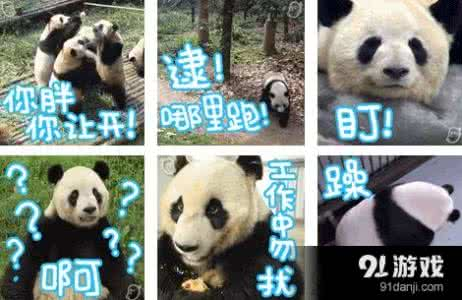panda: (158, 153, 303, 300), (7, 158, 143, 300), (318, 1, 460, 103), (332, 180, 461, 252), (35, 7, 82, 93), (91, 17, 129, 116), (59, 35, 90, 112), (261, 71, 298, 134), (129, 32, 145, 88)
